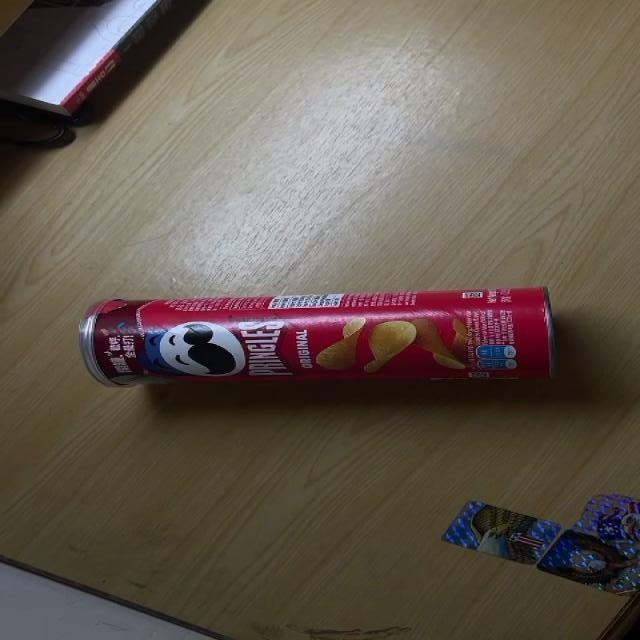Pringles: (76, 286, 560, 391)
